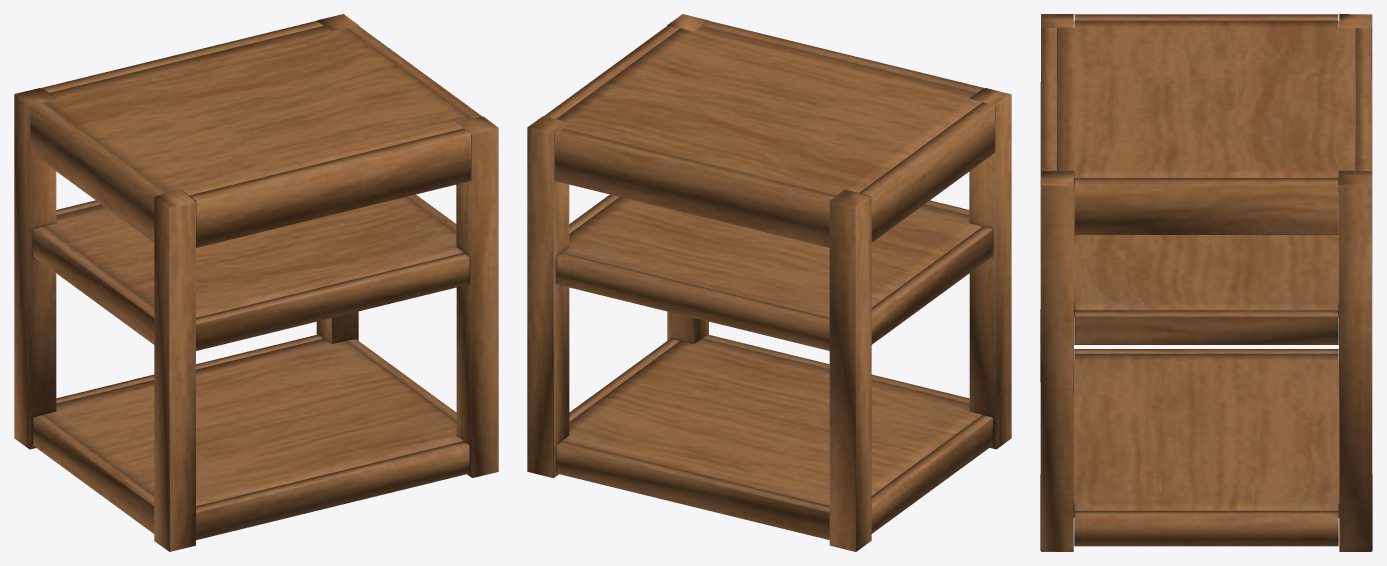
File: side_table_01.glb
3 renders of one model, left to right at view 1: azimuth 30°, elevation 25°; view 2: azimuth 150°, elevation 25°; view 3: azimuth 270°, elevation 25°, orthographic. The views are drawn at different scales.
Visible parts, largest first — view 1: side_table_01; view 2: side_table_01; view 3: side_table_01.
Part boxes in pixels (left/top/right/bottom): side_table_01: left=14, top=14, right=498, bottom=551; side_table_01: left=527, top=14, right=1011, bottom=551; side_table_01: left=1040, top=14, right=1372, bottom=551.
Bounding box in the file's own units: 0.55 × 0.5507 × 0.45.
Materials: 1 (1 with a texture image).
